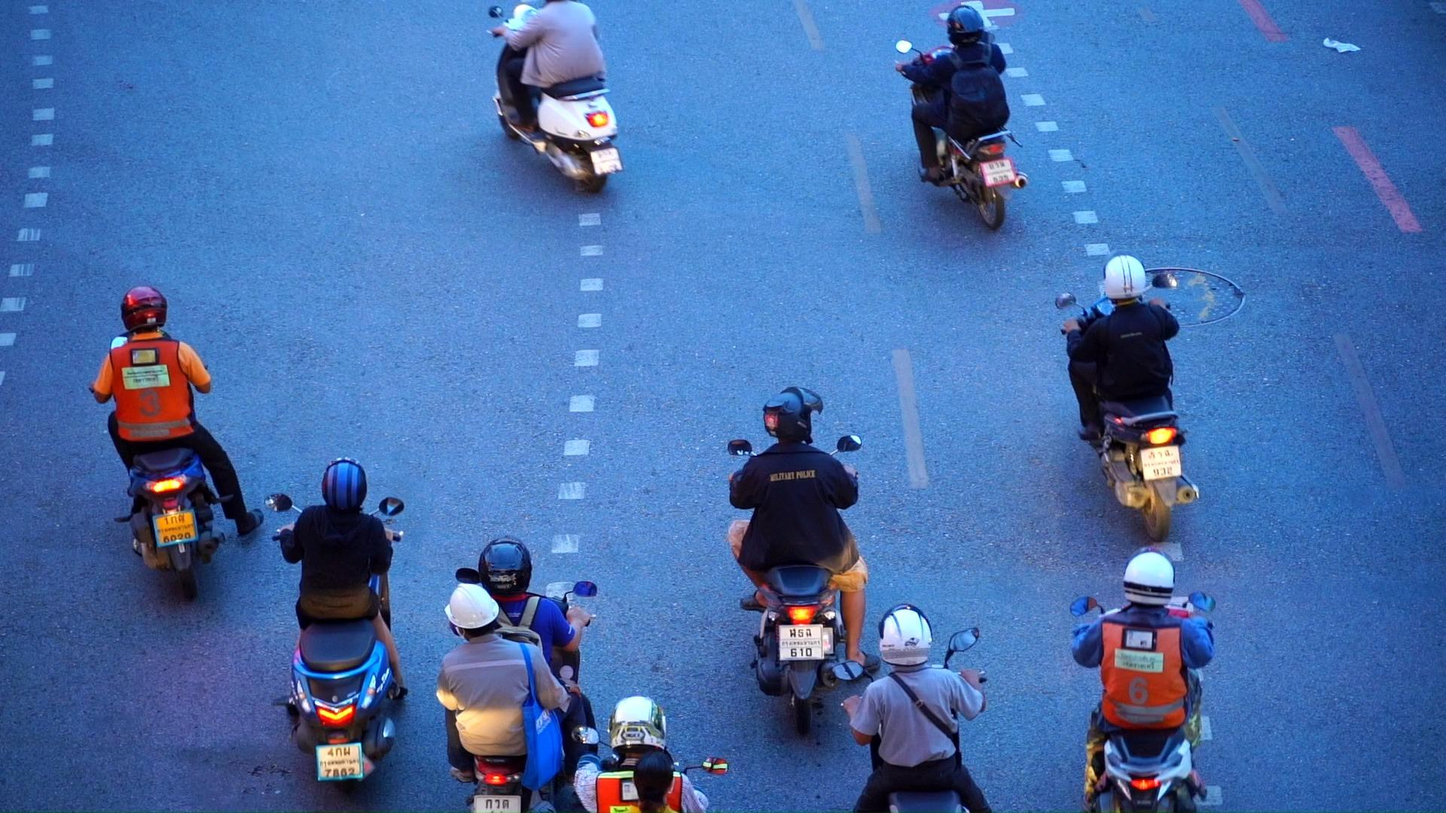driver: (88, 287, 264, 601), (727, 387, 881, 737), (264, 456, 408, 795), (435, 536, 598, 813), (1054, 248, 1201, 543), (1071, 546, 1217, 813), (830, 603, 993, 813), (893, 5, 1029, 231), (485, 0, 624, 194), (570, 695, 730, 813)
helmet: (607, 694, 667, 758), (878, 603, 934, 667), (762, 387, 823, 445), (478, 535, 533, 597), (444, 582, 500, 641), (1123, 546, 1176, 607), (321, 456, 368, 514), (1103, 248, 1147, 305), (120, 287, 167, 333), (946, 5, 984, 50)
no-helmet: (632, 751, 676, 813)
